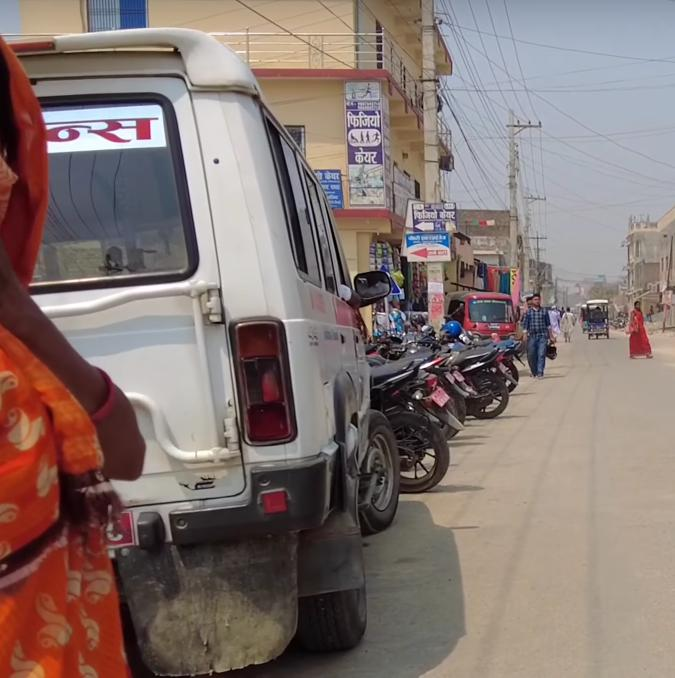ambulance: (0, 14, 403, 678)
auto_rickshaw: (443, 291, 520, 345)
bike: (367, 348, 452, 504)
e-rickshaw: (583, 298, 612, 339)
